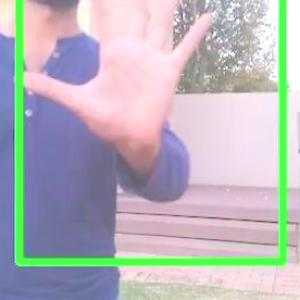follow_hand: (10, 0, 220, 150)
